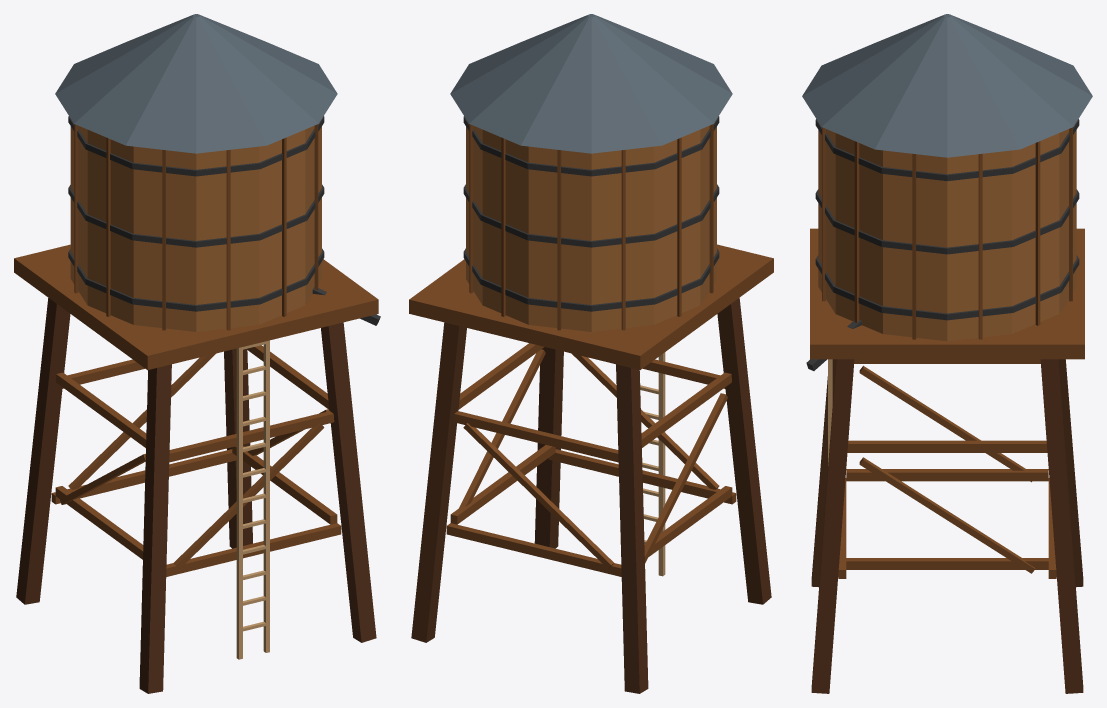
File: Prop_WaterTower.fbx
3 views of the same model, side by side, from view 1: azimuth 30°, elevation 25°; view 2: azimuth 150°, elevation 25°; view 3: azimuth 270°, elevation 25° (orthographic). The views are drawn at different scales.
Parts seen in each view (by area): view 1: Prop_WaterTower; view 2: Prop_WaterTower; view 3: Prop_WaterTower.
Boxes of the visible parts, x1=… form: Prop_WaterTower: x1=14, y1=14, x2=380, y2=693; Prop_WaterTower: x1=409, y1=14, x2=773, y2=693; Prop_WaterTower: x1=802, y1=14, x2=1092, y2=693.
Bounding box in the file's own units: 3.6 × 8.49 × 3.6.
